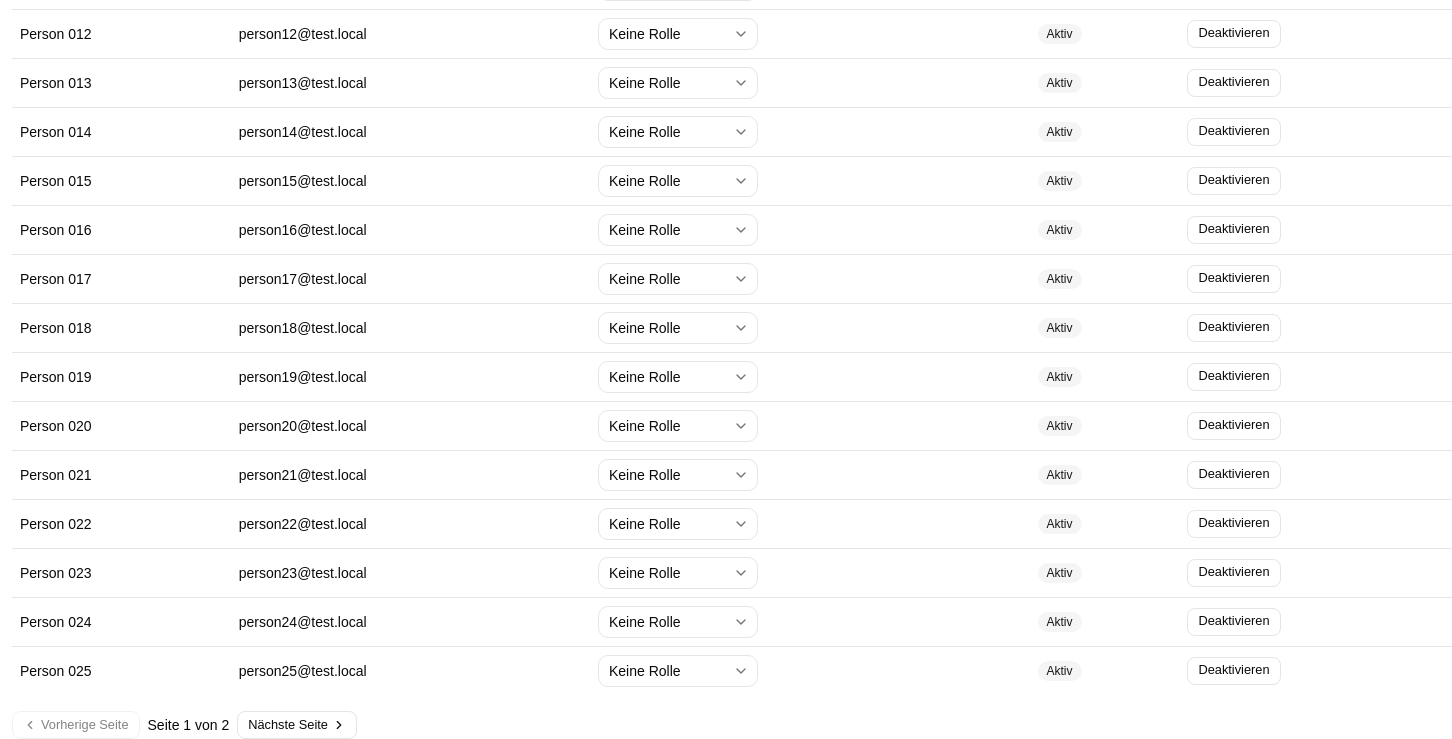
Test: Blättern › lädt per „Nächste Seite“ Seite 2
(page scrolled)
expect the text "Seite 1 von 2" is shown: met, box [148,714,229,734]
What coordinates should you click on to do the following:
click the button "Nächste Seite"
I would click on:
 (297, 724)
Its box is [237,710,357,738].
(page scrolled)
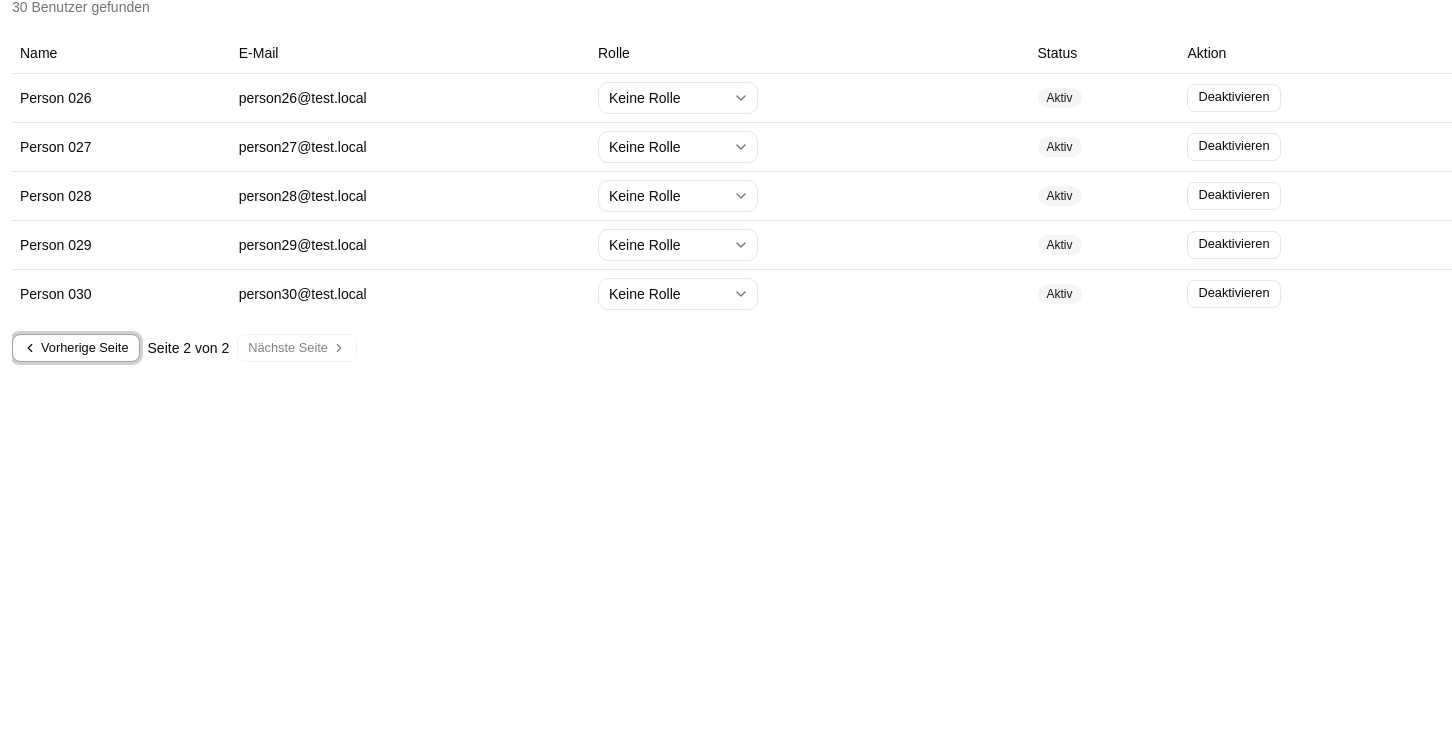
expect the text "Seite 2 von 2" is shown: met, box [148,338,229,358]
expect the text "Person 026" is shown: met, box [12,74,231,122]
